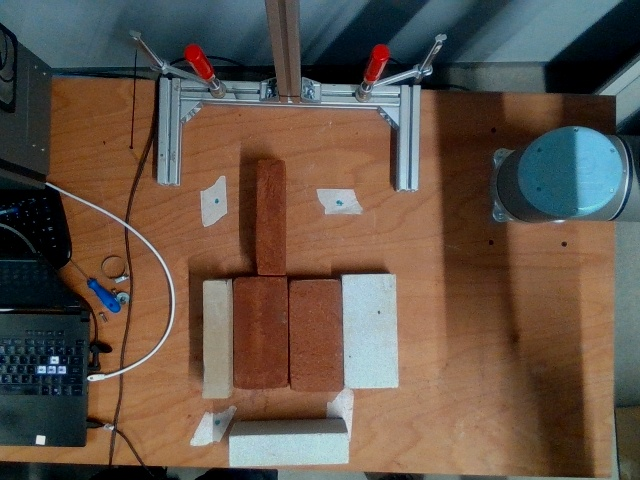brick: (341, 274, 396, 391), (233, 278, 285, 386), (290, 282, 341, 390)
brick-side: (228, 434, 346, 465), (201, 281, 225, 398), (257, 164, 282, 275)
